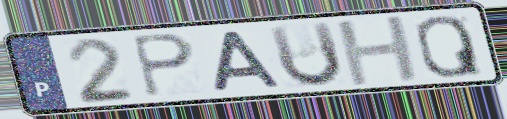2: (66, 36, 137, 106)
A: (210, 29, 285, 94)
H: (333, 13, 425, 89)
P: (128, 32, 199, 100)
Q: (412, 13, 486, 80)
U: (264, 19, 346, 90)
